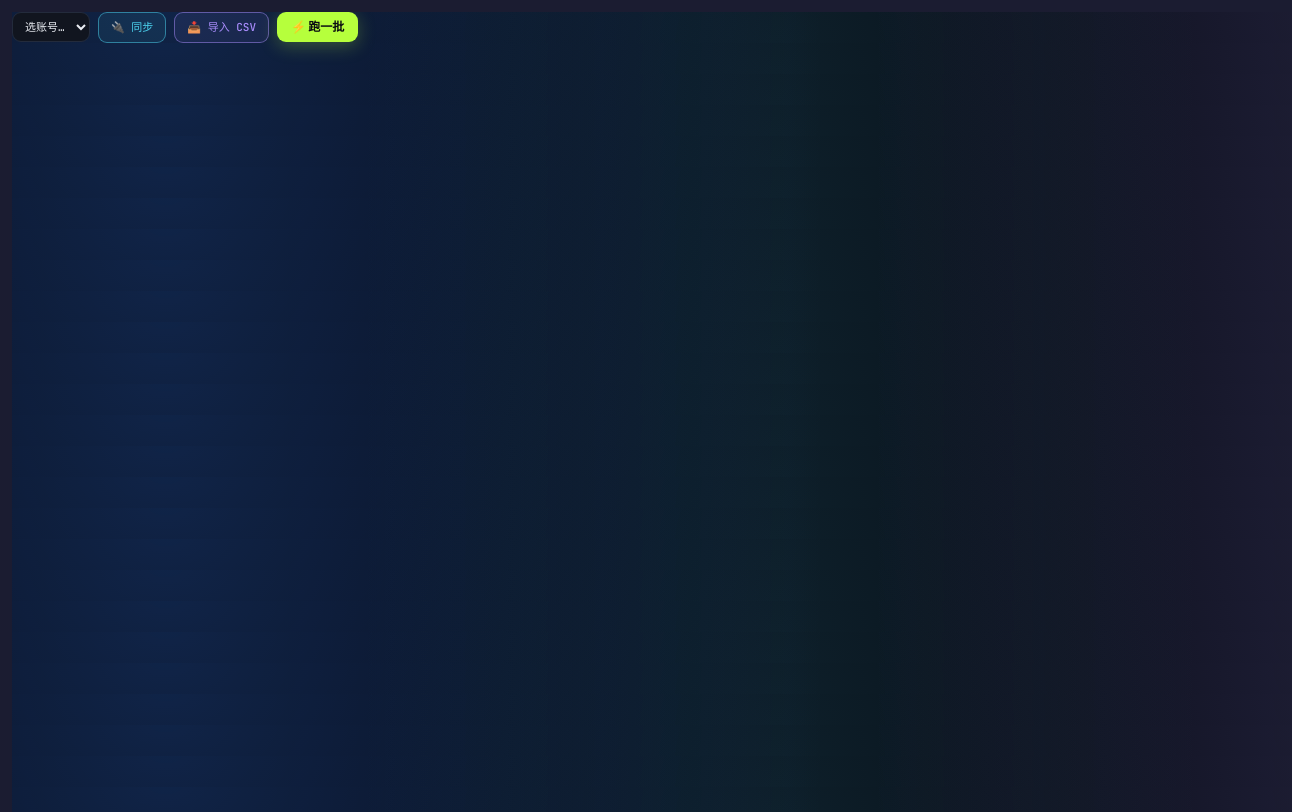
Test: 跑一批 surfaces an error when POST /batch/run fails
The width and height of the screenshot is (1292, 812).
What coordinates should you click on to do the following:
click the button "⚡ 跑一批"
I would click on:
 (318, 27)
Its box is [277, 12, 358, 42].
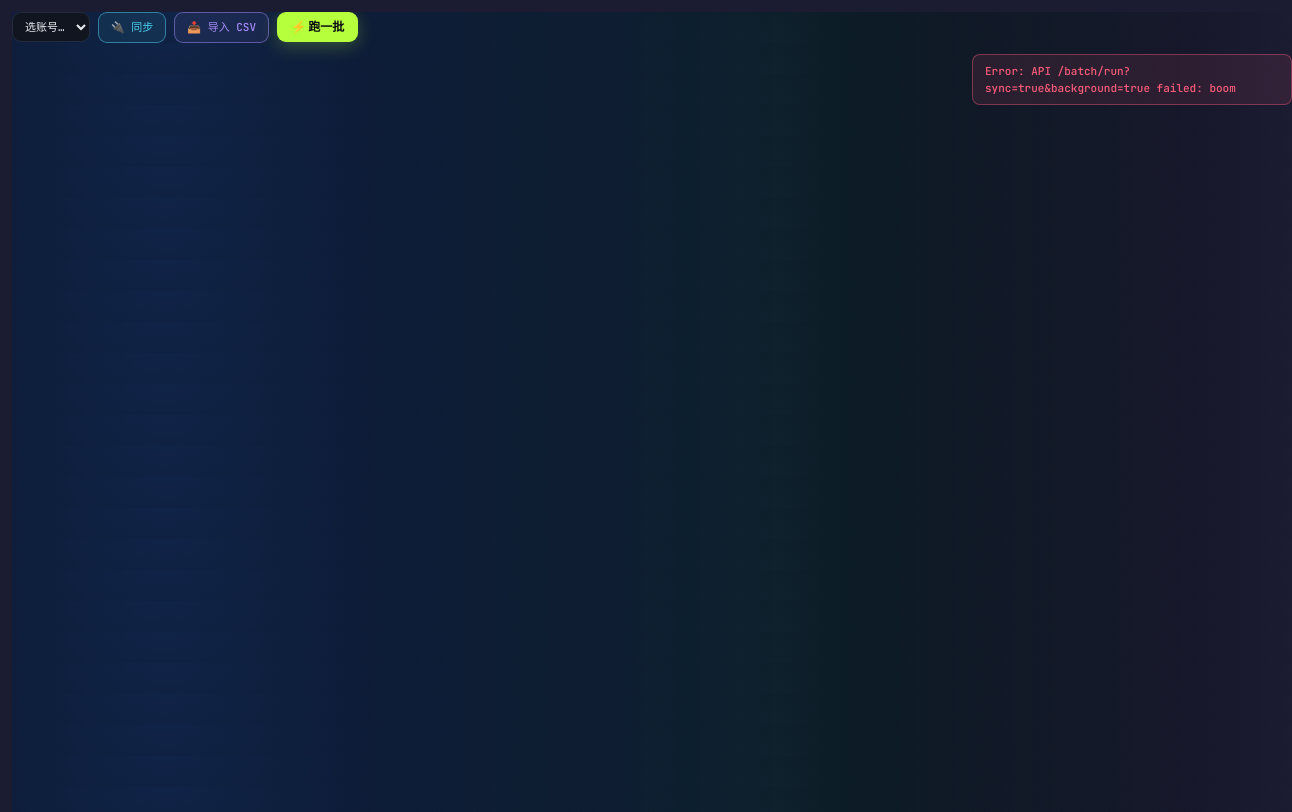
Expected: the text "Error: API /batch/run?sync=true&background=true failed: boom" is shown, [972, 54, 1291, 105]
